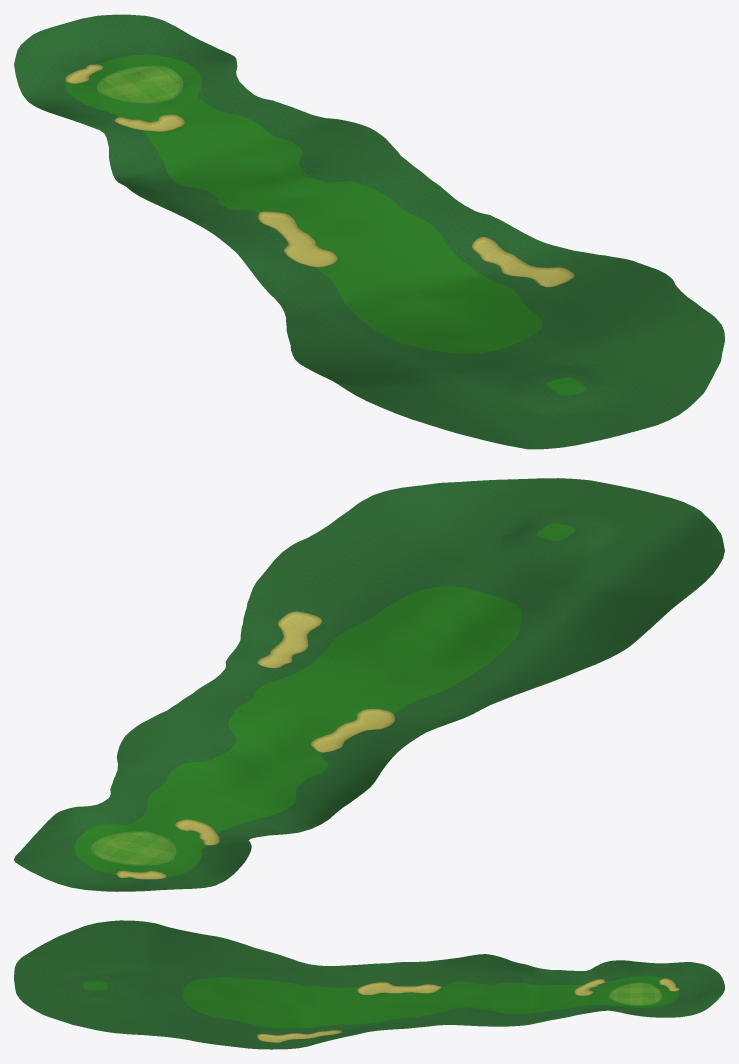
The model's file is glf_map_fc1__glf_map_fc1.glb.
The picture shows the model from 3 angles, top to bottom: view 1: azimuth 30°, elevation 25°; view 2: azimuth 150°, elevation 25°; view 3: azimuth 270°, elevation 25°; orthographic projection. The views are drawn at different scales.
Visible parts, largest first — view 1: polygon5, polygon2, polygon0, polygon4; view 2: polygon5, polygon2, polygon0, polygon4; view 3: polygon5, polygon2, polygon0, polygon4.
Boxes of the visible parts, left/top/right/bottom form: polygon5: left=14, top=14, right=724, bottom=449; polygon2: left=65, top=54, right=586, bottom=395; polygon0: left=65, top=64, right=574, bottom=287; polygon4: left=99, top=66, right=180, bottom=102; polygon5: left=14, top=478, right=724, bottom=891; polygon2: left=74, top=523, right=575, bottom=877; polygon0: left=116, top=611, right=394, bottom=879; polygon4: left=93, top=832, right=173, bottom=864; polygon5: left=14, top=920, right=724, bottom=1049; polygon2: left=83, top=976, right=678, bottom=1028; polygon0: left=257, top=978, right=679, bottom=1042; polygon4: left=610, top=983, right=660, bottom=1005.
Size of the model in its own units: 1739 by 198 by 4560.
Materials: 5 (5 with a texture image).
